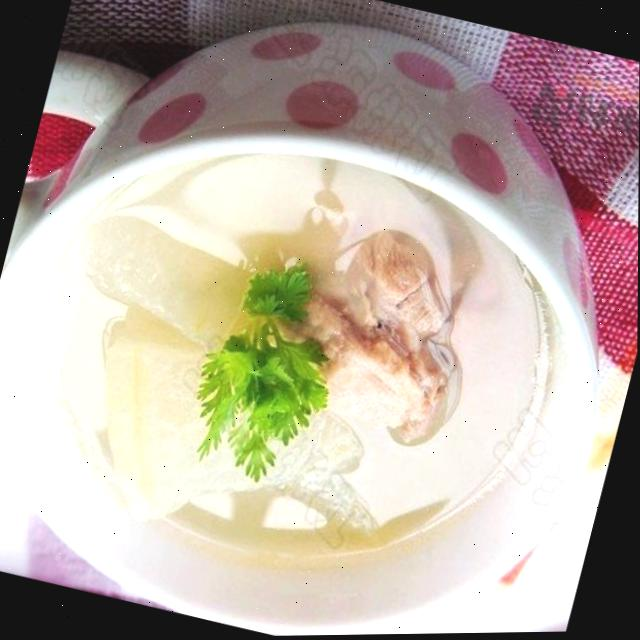汤锅炖物: (0, 74, 607, 640)
